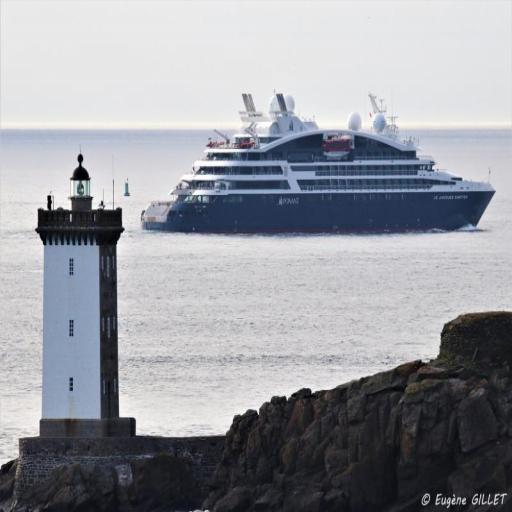cruises: (136, 76, 500, 243)
